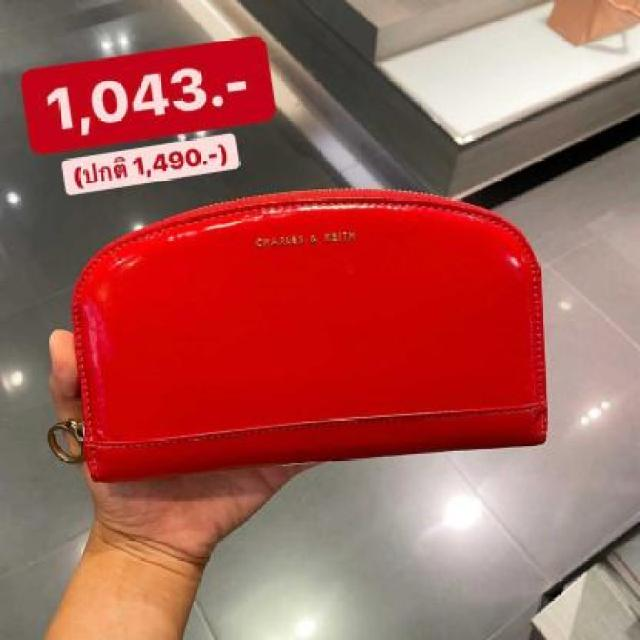Bag: (40, 162, 588, 486)
